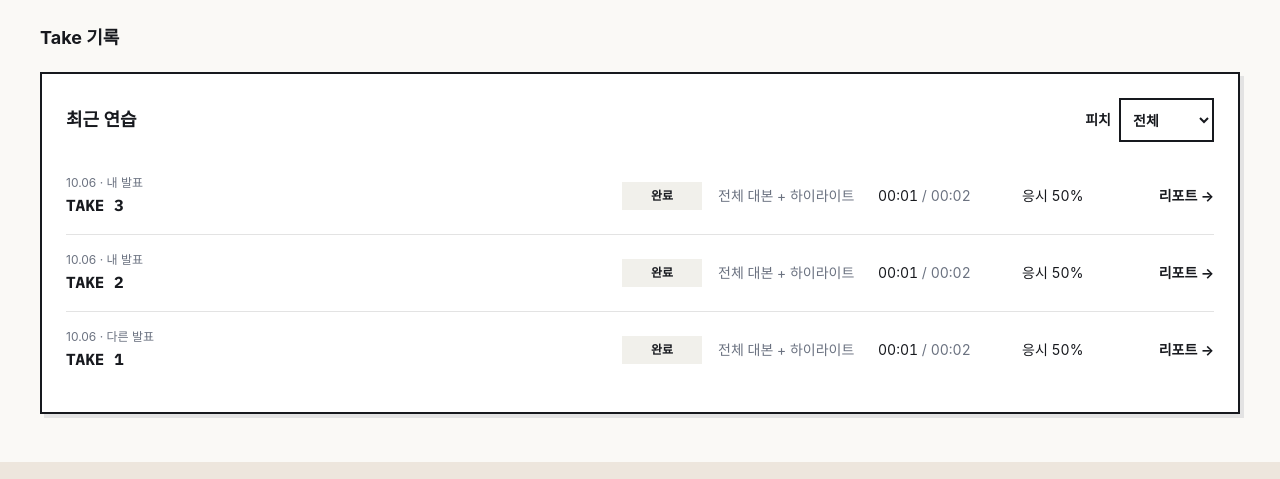
Scenario: filters by pitch and announces the result count without losing report destinations
The width and height of the screenshot is (1280, 479).
Select "다른 발표" in the dropdown labelled "피치": (1166, 120) [1119,98,1214,142]
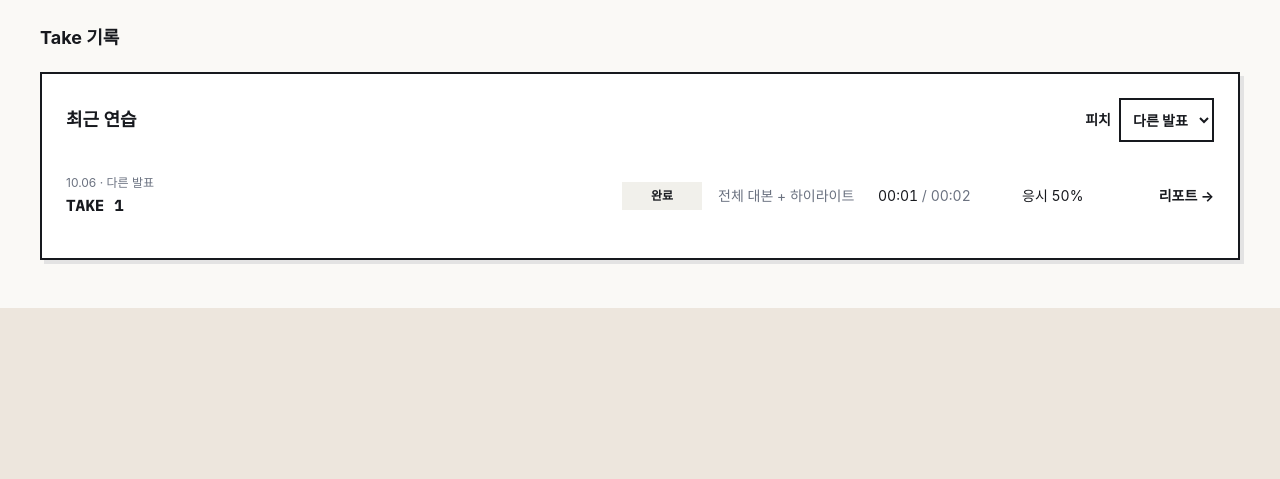
Expected: the link to "/takes/t2" is gone
